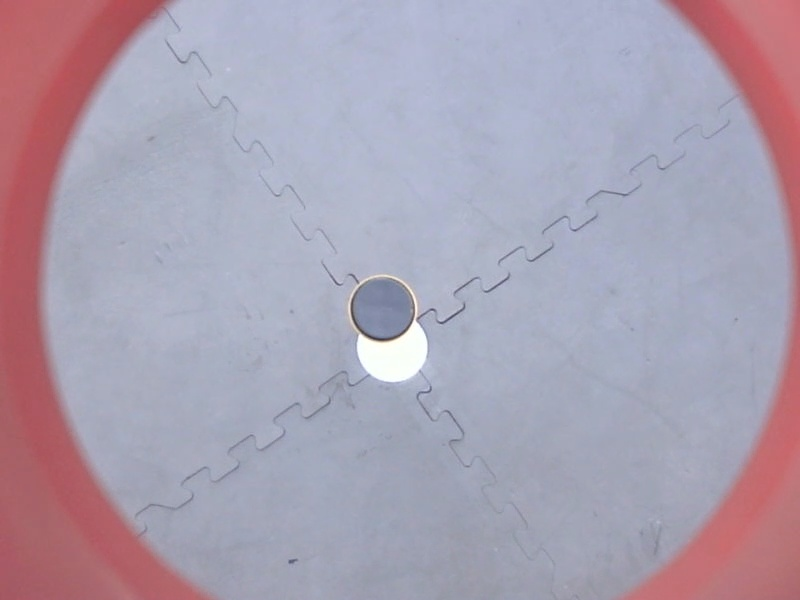tip: (345, 271, 421, 347)
